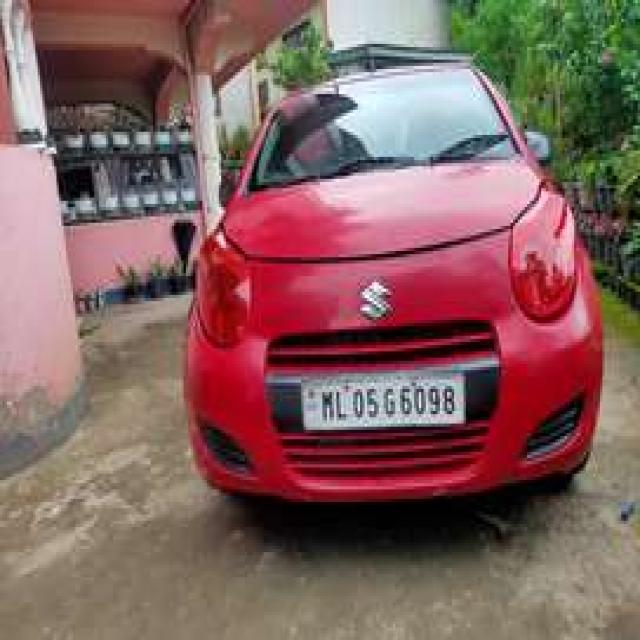plate: (303, 368, 467, 434)
